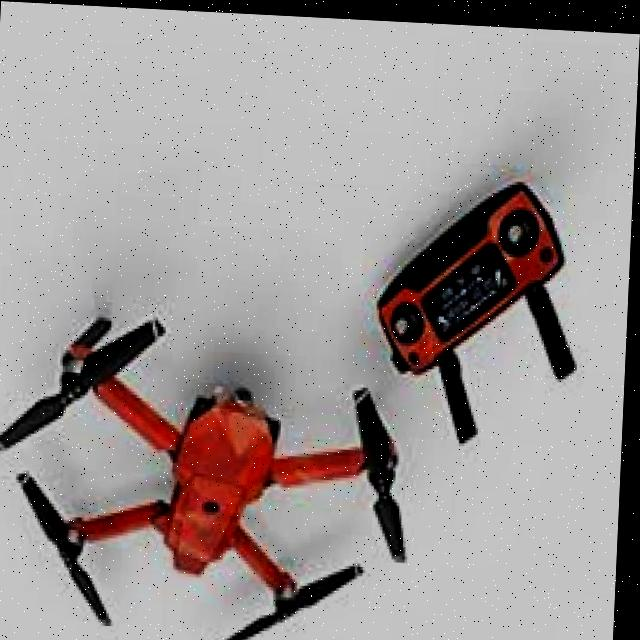drone: (0, 260, 427, 640)
